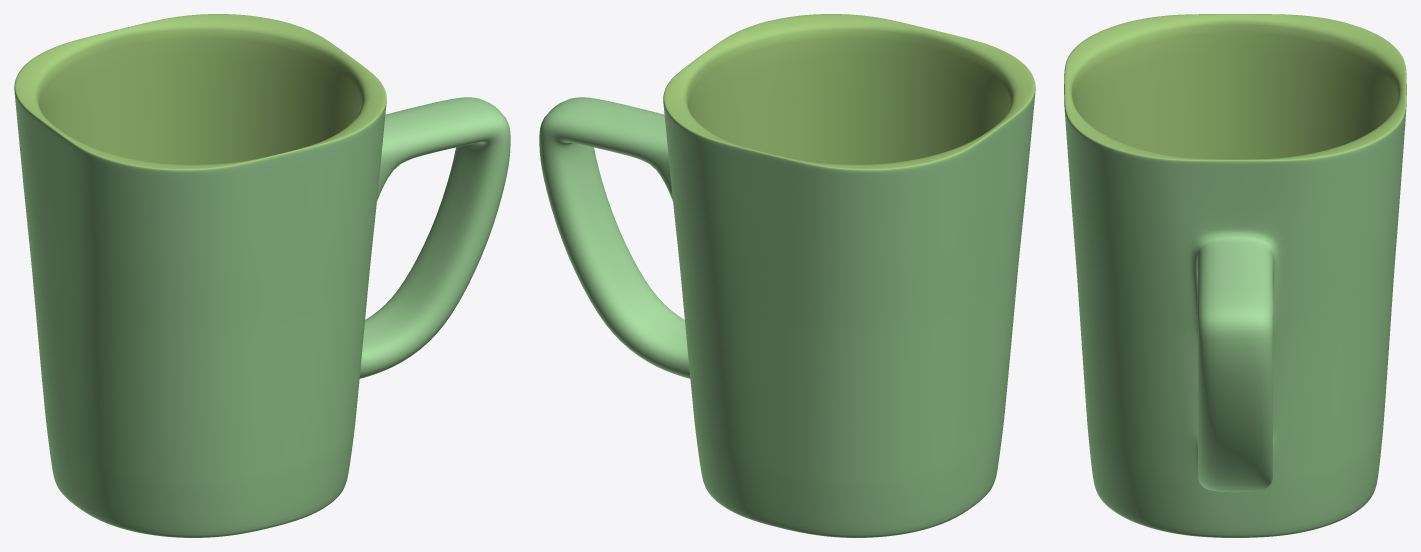
The model's file is nescafe_mug_4.glb.
3 renders of one model, left to right at view 1: azimuth 30°, elevation 25°; view 2: azimuth 150°, elevation 25°; view 3: azimuth 270°, elevation 25°, orthographic.
Visible parts, largest first — view 1: Cube_0; view 2: Cube_0; view 3: Cube_0.
Part boxes in pixels (left/top/right/bottom): Cube_0: left=14, top=14, right=510, bottom=537; Cube_0: left=539, top=14, right=1035, bottom=537; Cube_0: left=1064, top=14, right=1406, bottom=537.
Bounding box in the file's own units: 10.1 × 8.3 × 6.6.
